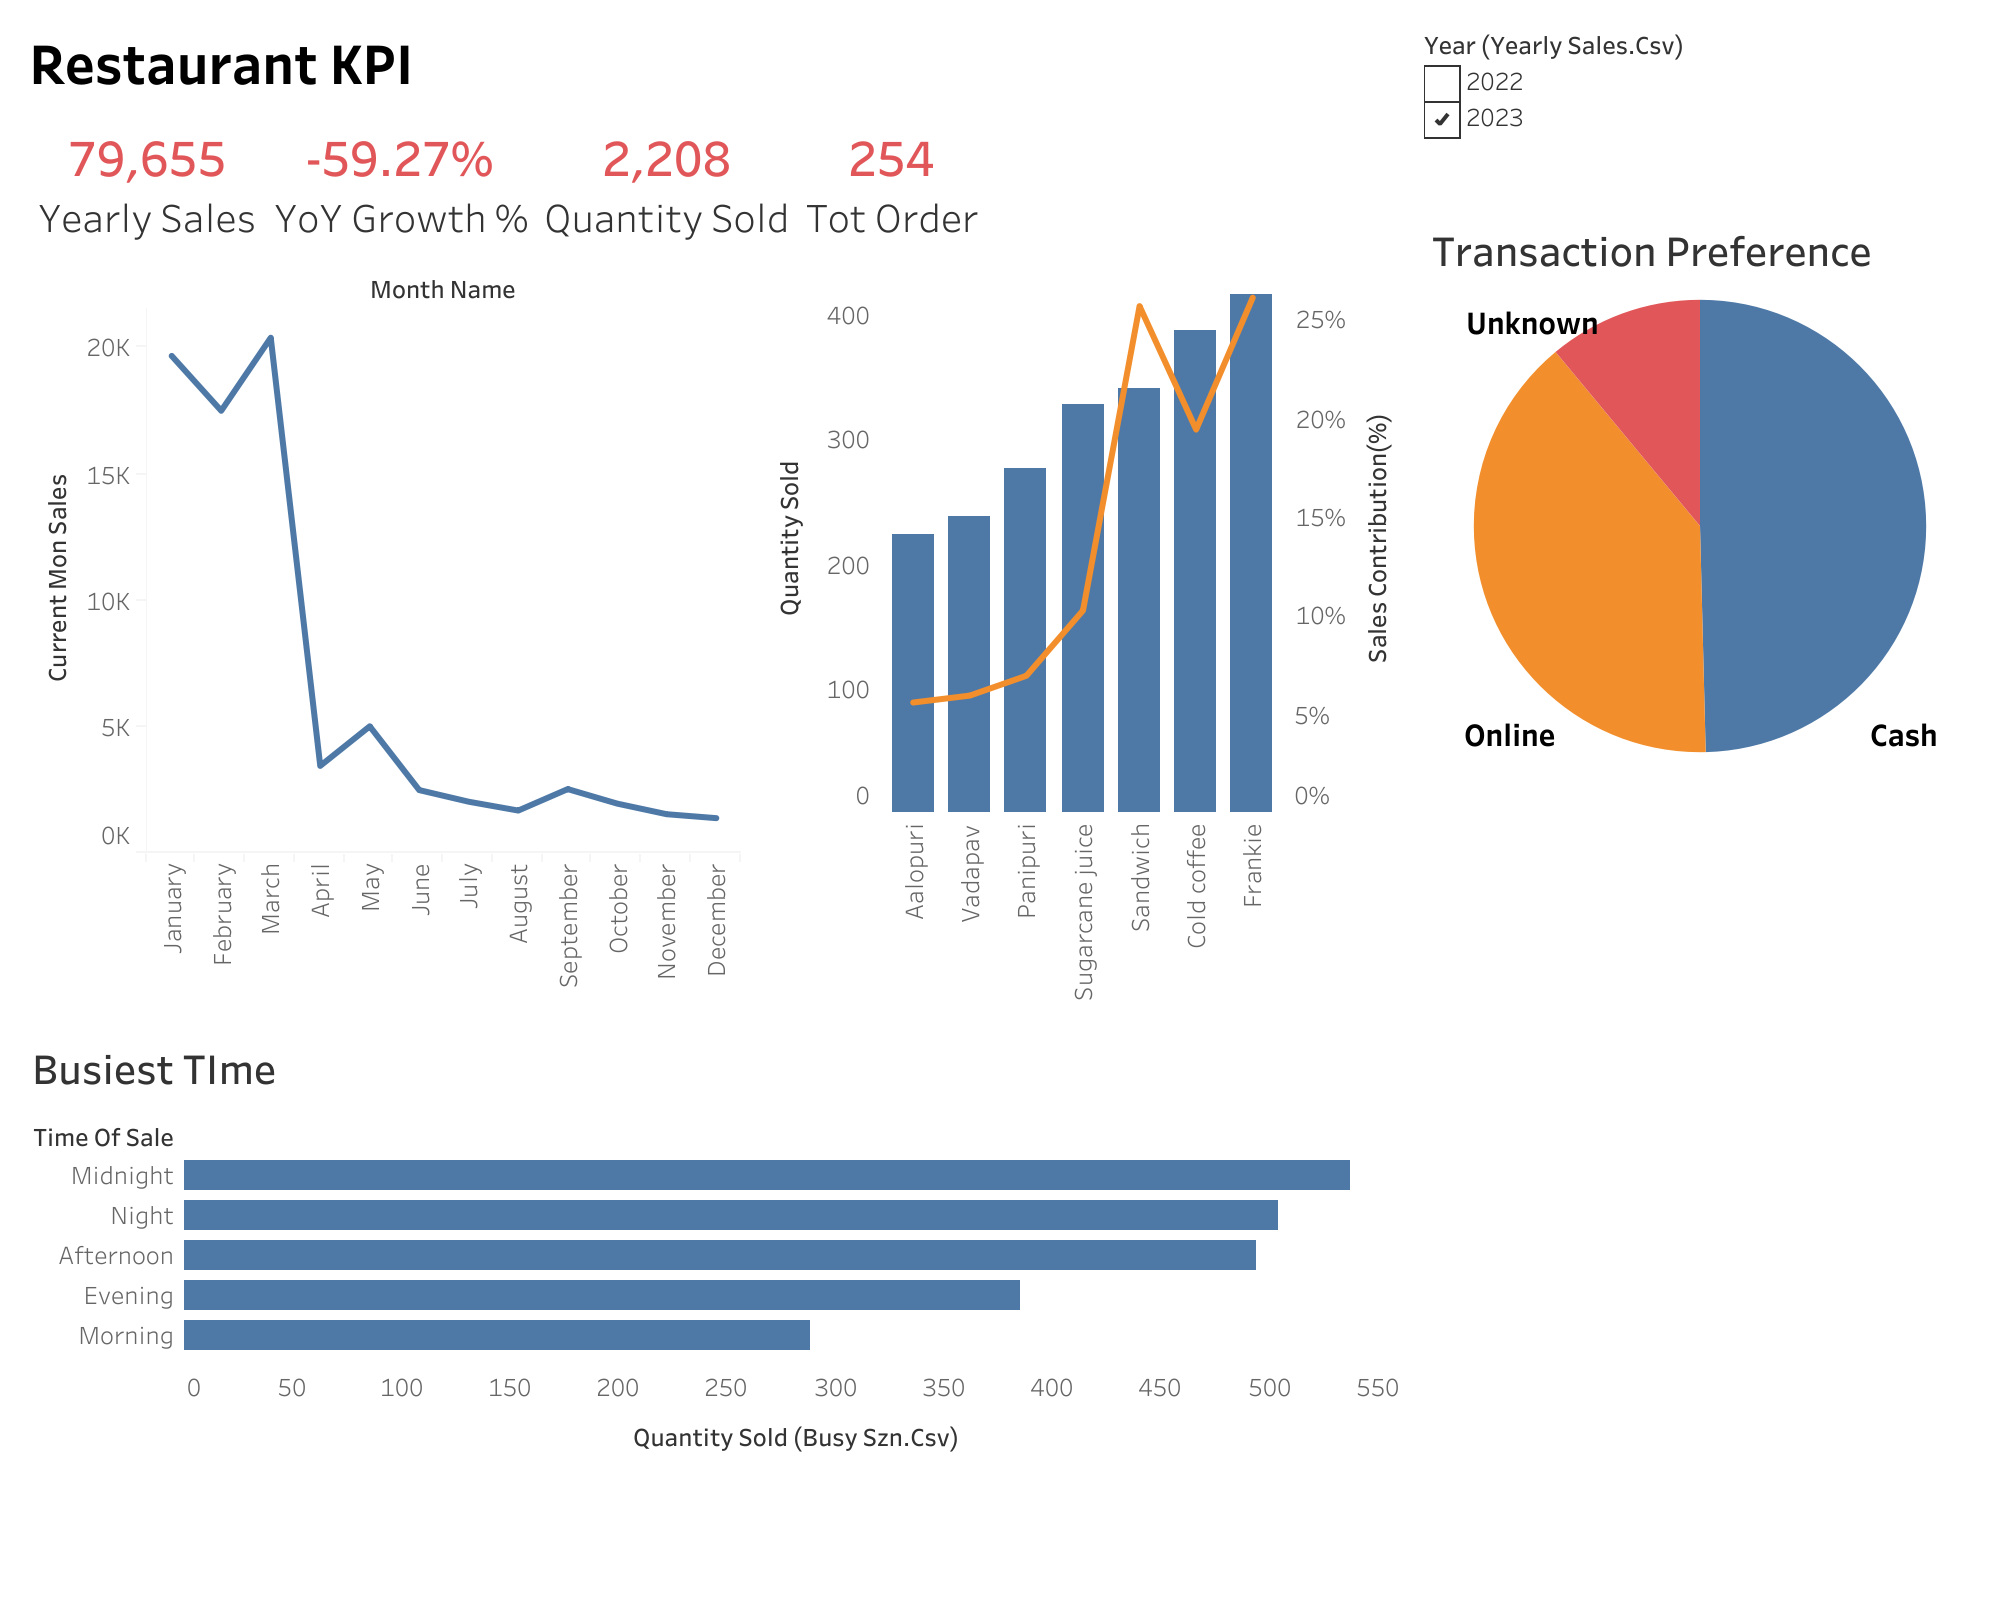

The dashboard page shown, as its layout file describes it:
{"tool":"tableau","page":{"name":"Dashboard 1","canvas":[1000,800],"ordinal":0},"visuals":[{"type":"text","box":[8,8,700,45]},{"type":"filter","title":"Sheet 1","param":"[federated.18tlbyl1j0cod11bfbmzf0bjxvw2].[none:year (yearly_sales.csv):nk]","box":[708,8,284,89]},{"type":"worksheet","title":"Sheet 2","mark":"Automatic","box":[8,53,700,77]},{"type":"worksheet","title":"Sheet 5","mark":"Pie","box":[708,97,284,330]},{"type":"worksheet","title":"Sheet 1","mark":"Line","rows":["current_mon_sales"],"cols":["month_name"],"box":[8,130,366,380]},{"type":"worksheet","title":"Sheet 3","mark":"Automatic","rows":["quantity_sold","sales"],"cols":["item_name"],"box":[374,130,334,380]},{"type":"worksheet","title":"Sheet 4","mark":"Automatic","rows":["time_of_sale"],"cols":["quantity_sold (busy_szn.csv)"],"box":[8,510,700,226]}]}

Visuals, with their boxes in screenshot pixels (x1, y1, x2, y2), scaled from the page's 1000x800 canvas onto the 1998x1598 screenshot:
text: detection(16, 16, 1415, 106)
"Sheet 1" filter: detection(1415, 16, 1982, 194)
"Sheet 2" worksheet: detection(16, 106, 1415, 260)
"Sheet 5" worksheet (Pie marks): detection(1415, 194, 1982, 853)
"Sheet 1" worksheet (Line marks): detection(16, 260, 747, 1019)
"Sheet 3" worksheet: detection(747, 260, 1415, 1019)
"Sheet 4" worksheet: detection(16, 1019, 1415, 1470)
